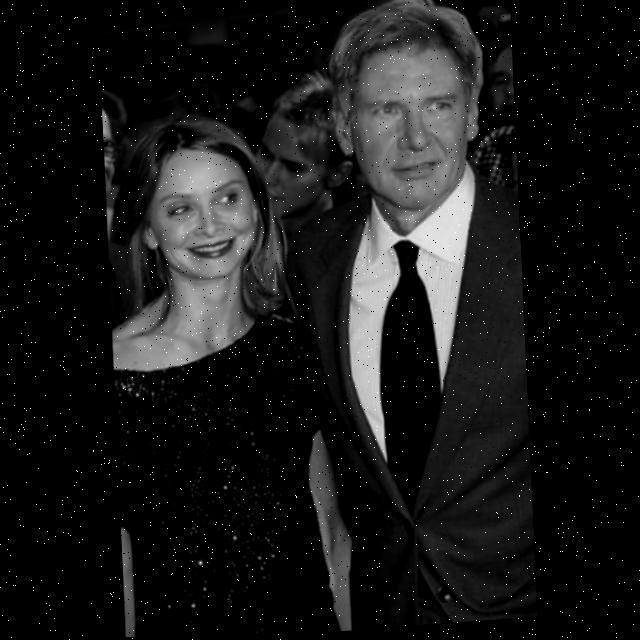face: (343, 22, 487, 217), (127, 118, 272, 292), (247, 80, 334, 220)
